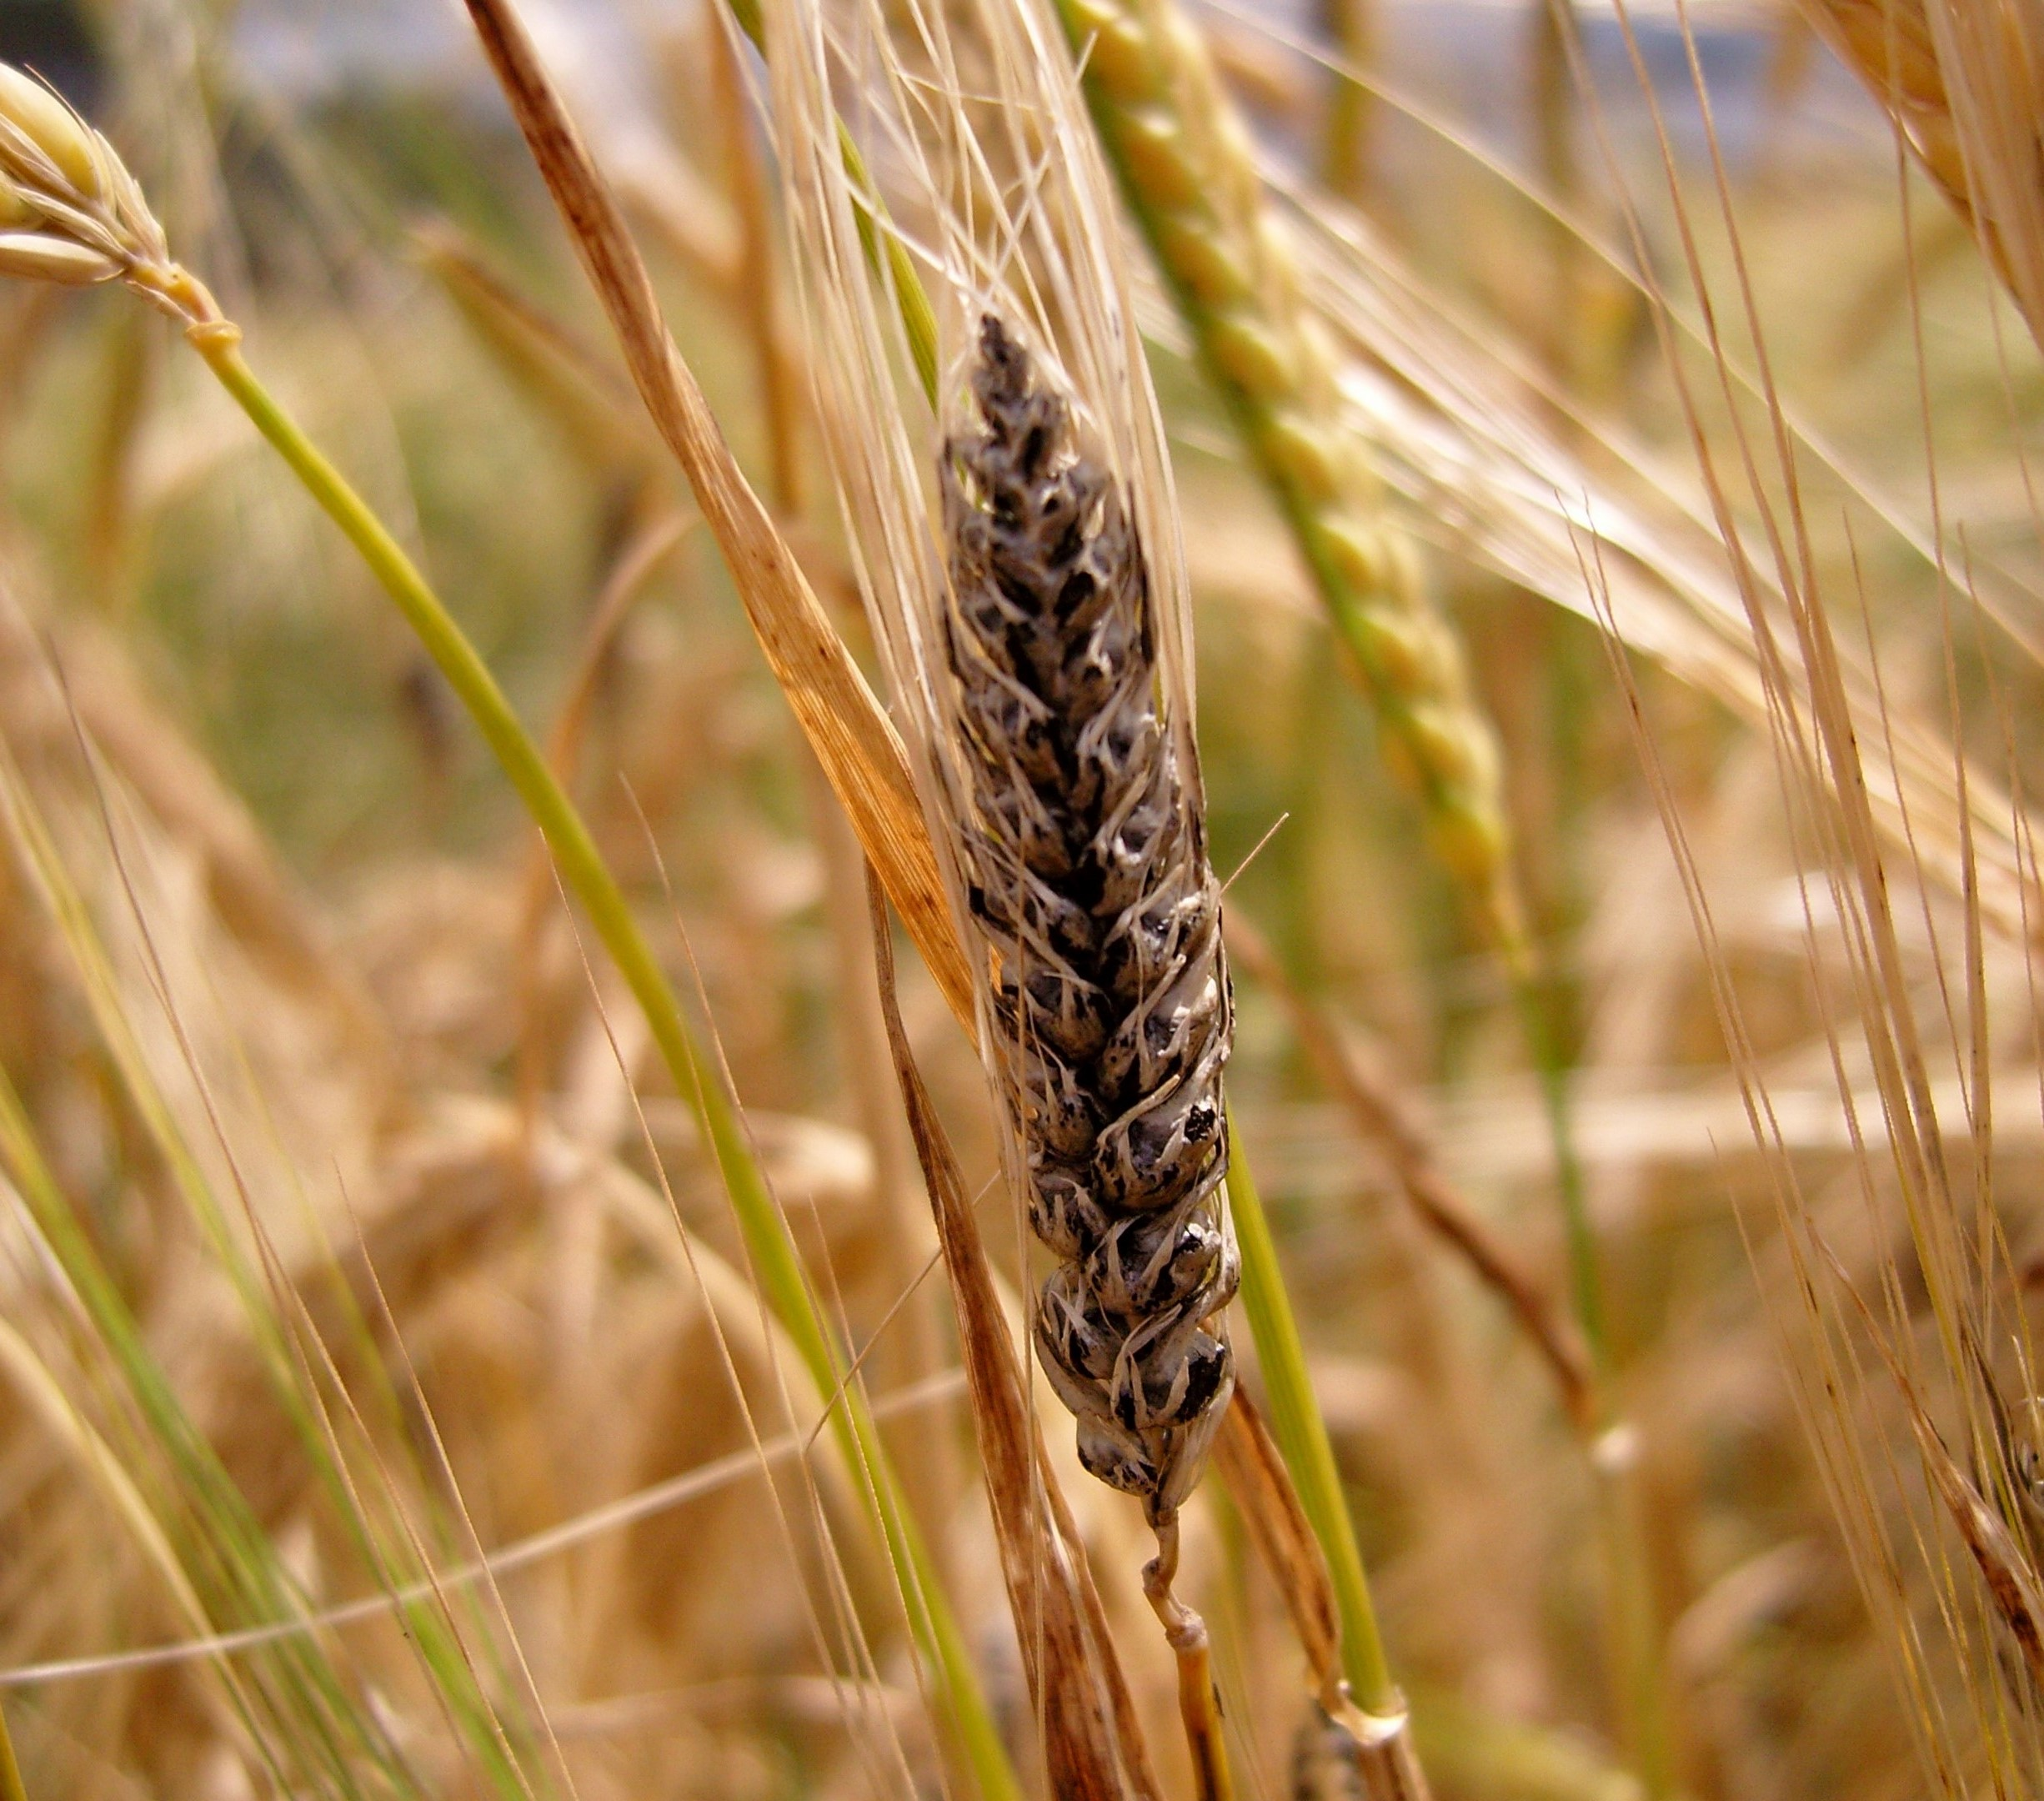Wheat Loose Smut: (862, 297, 1335, 1532)
